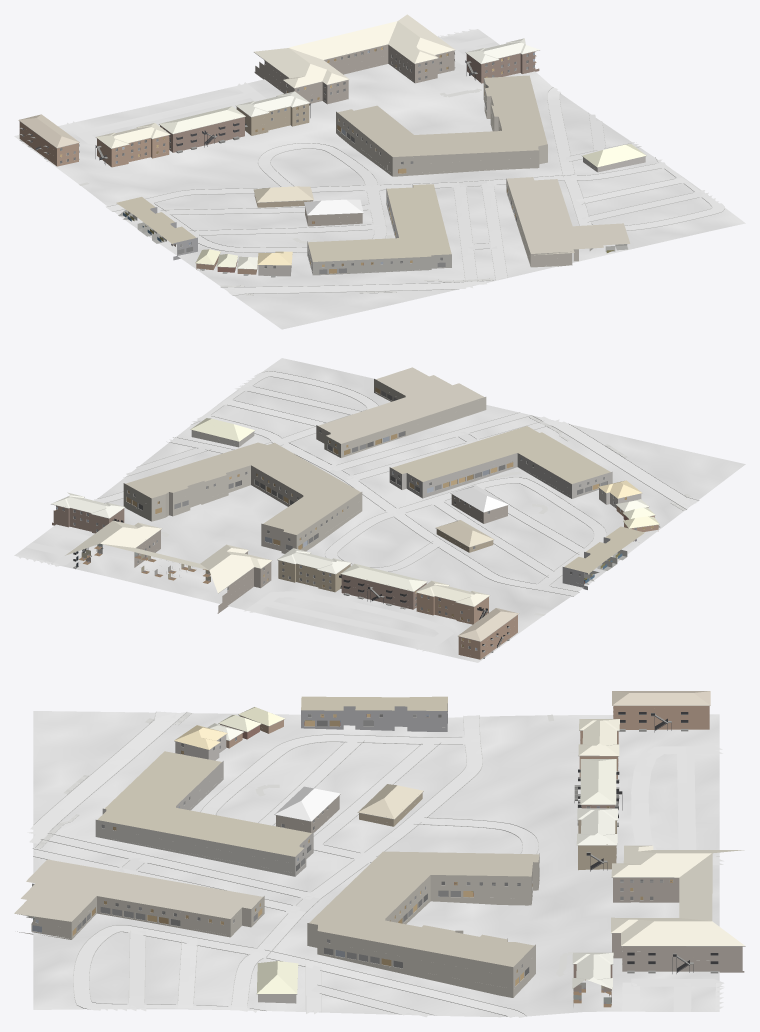
3 renders of one model, top to bottom at view 1: azimuth 30°, elevation 25°; view 2: azimuth 150°, elevation 25°; view 3: azimuth 270°, elevation 25°, orthographic. The views are drawn at different scales.
Parts seen in each view (by area): view 1: ground, roof_flat, concrete, roof, wall, wall_com, curb, detail, asphalt, glass, wall_stone, room (+2 smaller); view 2: ground, roof_flat, concrete, roof, wall_com, wall, curb, detail, asphalt, glass, glass_lit, room (+2 smaller); view 3: ground, roof_flat, concrete, wall_com, roof, wall, curb, asphalt, detail, glass, glass_lit, wall_stone (+3 smaller).
Part boxes in pixels (x1,y1,x2,y2): ground: [14, 29, 745, 329]; roof_flat: [116, 75, 630, 261]; concrete: [65, 29, 724, 281]; roof: [18, 14, 646, 269]; wall: [19, 45, 539, 274]; wall_com: [150, 77, 578, 275]; curb: [106, 87, 724, 295]; detail: [19, 44, 646, 277]; asphalt: [221, 281, 486, 295]; glass: [60, 52, 534, 274]; wall_stone: [258, 156, 645, 276]; room: [60, 47, 627, 273]; ground: [14, 358, 745, 662]; roof_flat: [125, 367, 644, 574]; concrete: [17, 371, 606, 651]; roof: [51, 418, 659, 641]; wall_com: [123, 379, 612, 589]; wall: [52, 494, 658, 659]; curb: [97, 371, 699, 596]; detail: [51, 392, 660, 658]; asphalt: [538, 416, 698, 509]; glass: [62, 390, 636, 648]; glass_lit: [56, 387, 653, 650]; room: [55, 392, 653, 611]; ground: [33, 711, 719, 1017]; roof_flat: [14, 696, 539, 966]; concrete: [33, 715, 724, 1017]; wall_com: [17, 703, 539, 997]; roof: [174, 691, 744, 993]; wall: [220, 706, 744, 1004]; curb: [32, 711, 538, 1016]; asphalt: [27, 711, 185, 843]; detail: [32, 705, 745, 1007]; glass: [77, 714, 662, 976]; glass_lit: [32, 714, 672, 985]; wall_stone: [175, 735, 296, 1003].
Bounding box in the file's own units: 255 × 17.65 × 267.
